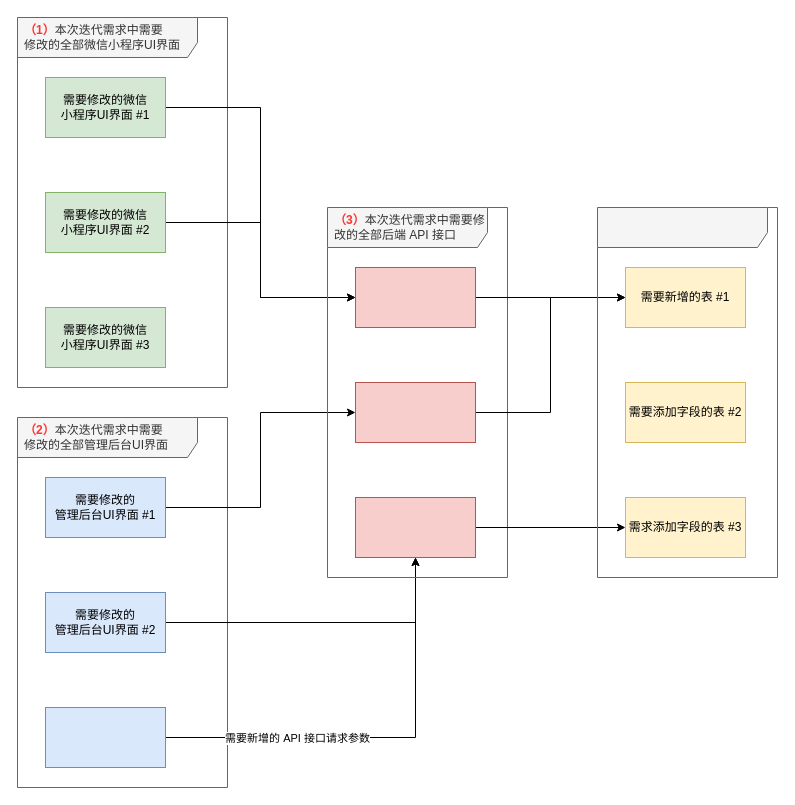
Some shapes in this 795 by 805 pixel diagram are drawn without their labels. The shapes that lost their labels are listed below. From the top down, each one's box as (x1, y1, x2, y2) in pixels, then its label:
(354, 266, 476, 328): 需要修改的 API 接口 #1
(354, 382, 476, 442): 需要修改的 API 接口 #2
(596, 206, 778, 578): （4） 本次迭代需求中需要修改 的数据库表 / 字段 / 字典数据
(354, 496, 476, 558): 需要修改的 API 接口 #3
(44, 706, 166, 768): 需要修改的 管理后台UI界面 #3
